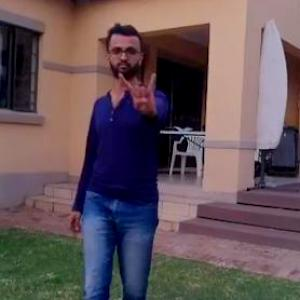takeoff-hand: (116, 66, 165, 119)
